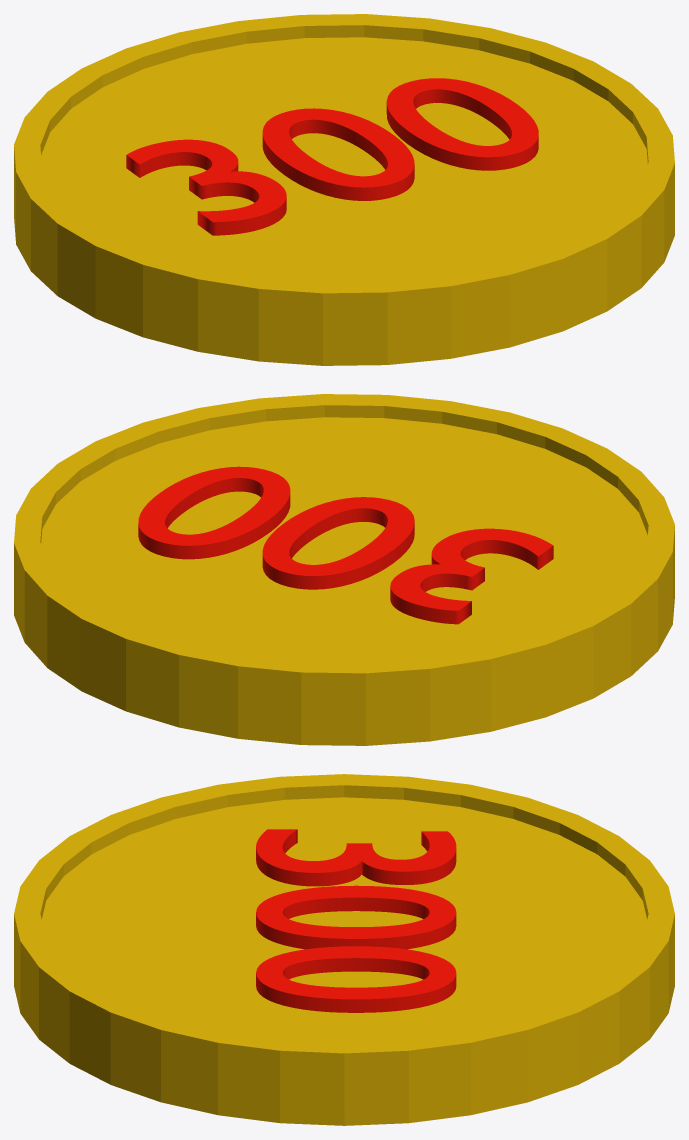
Rendered from coin_01.fbx.
3 renders of one model, top to bottom at view 1: azimuth 30°, elevation 25°; view 2: azimuth 150°, elevation 25°; view 3: azimuth 270°, elevation 25°, orthographic.
Parts seen in each view (by area): view 1: circle, text; view 2: circle, text; view 3: circle, text.
Part boxes in pixels (box(x1,y1,x2,y2)): circle: box(14, 14, 674, 365); text: box(126, 78, 538, 235); circle: box(14, 394, 674, 745); text: box(138, 466, 553, 624); circle: box(14, 774, 674, 1125); text: box(256, 829, 456, 1012).
Bounding box in the file's own units: 2 × 0.2465 × 2.
